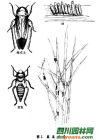pest: (14, 5, 29, 50), (15, 68, 25, 102), (70, 1, 75, 15), (60, 1, 64, 14), (49, 3, 54, 13), (53, 2, 57, 13), (57, 4, 61, 13), (67, 3, 70, 14), (76, 3, 79, 14), (64, 3, 67, 13), (79, 6, 82, 15), (53, 56, 57, 62), (42, 75, 47, 79), (56, 111, 58, 116), (55, 84, 57, 88), (58, 90, 59, 95), (62, 82, 63, 87), (62, 91, 63, 96)
